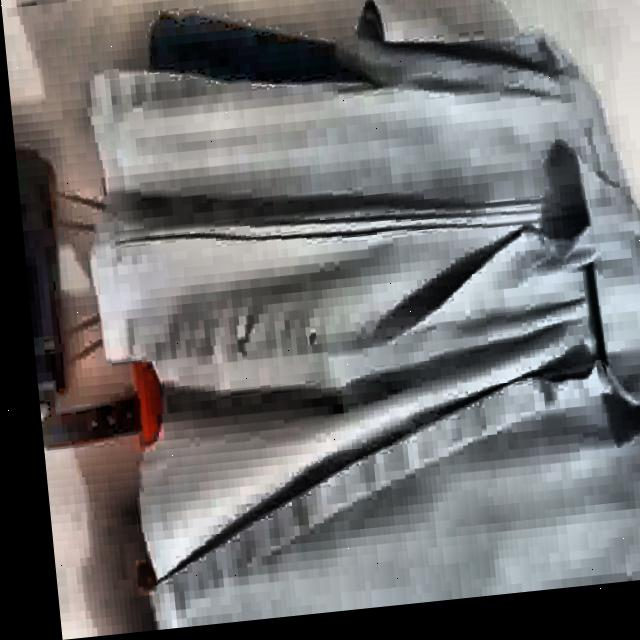clothes: (68, 0, 640, 633)
